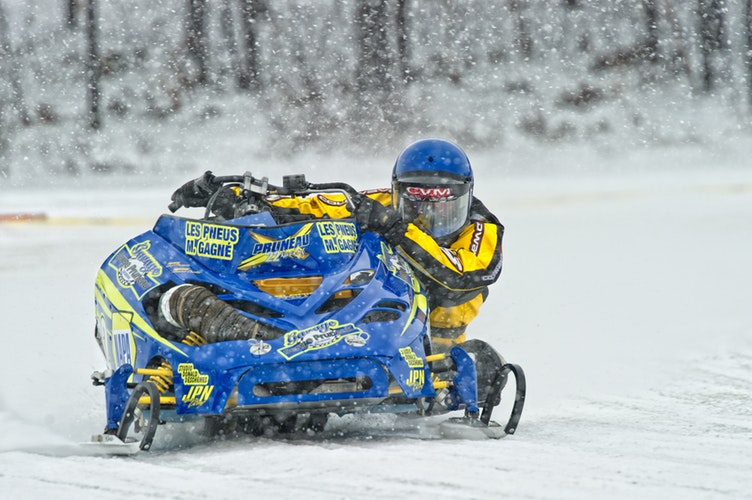helmet: (381, 135, 484, 195)
